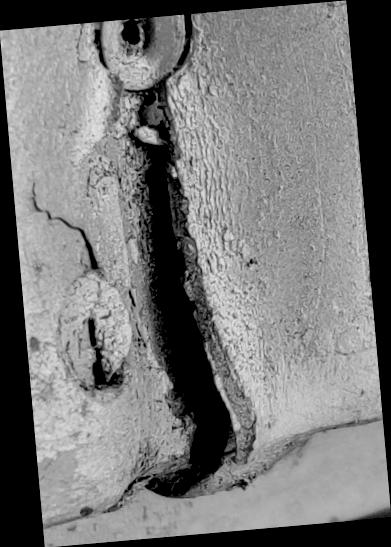crack: (0, 1, 391, 547)
